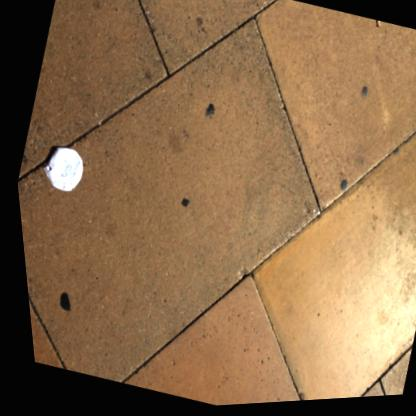Plastic: (39, 146, 78, 190)
Waste: (374, 23, 378, 30)
